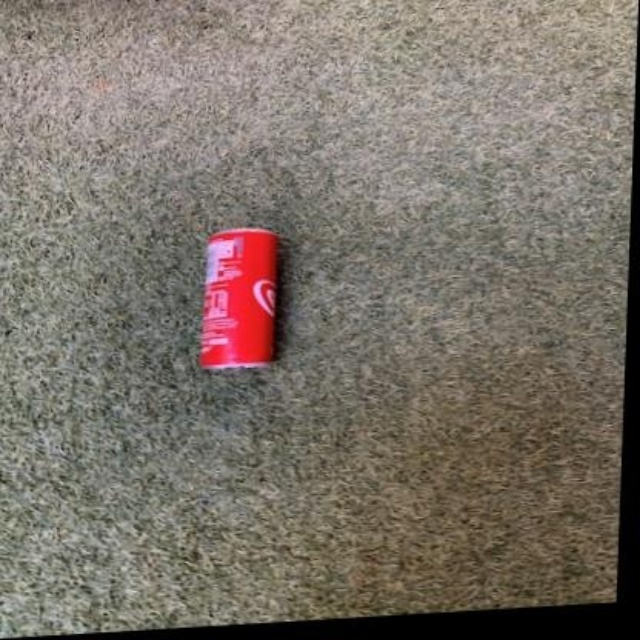trash: (200, 229, 277, 366)
